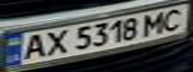1: (106, 17, 127, 44)
3: (90, 20, 112, 47)
5: (72, 22, 96, 52)
8: (121, 16, 145, 42)
A: (15, 30, 51, 62)
C: (157, 6, 193, 33)
M: (136, 10, 172, 36)
X: (39, 28, 72, 57)
